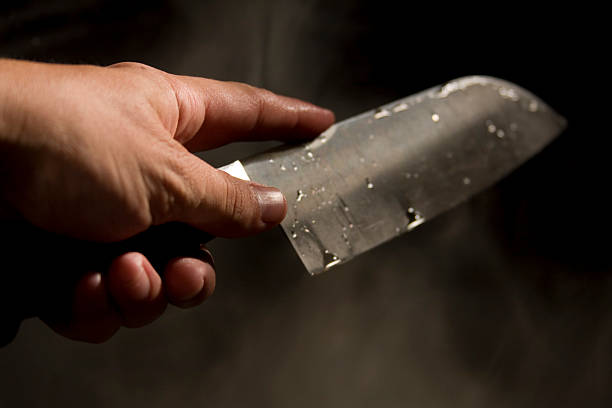knife: (0, 73, 569, 348)
